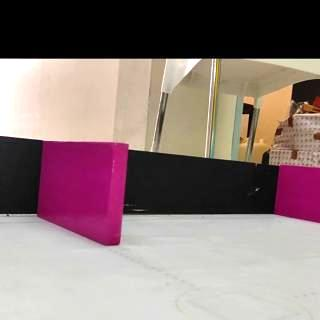xparking: (44, 140, 125, 248), (281, 166, 320, 216)
